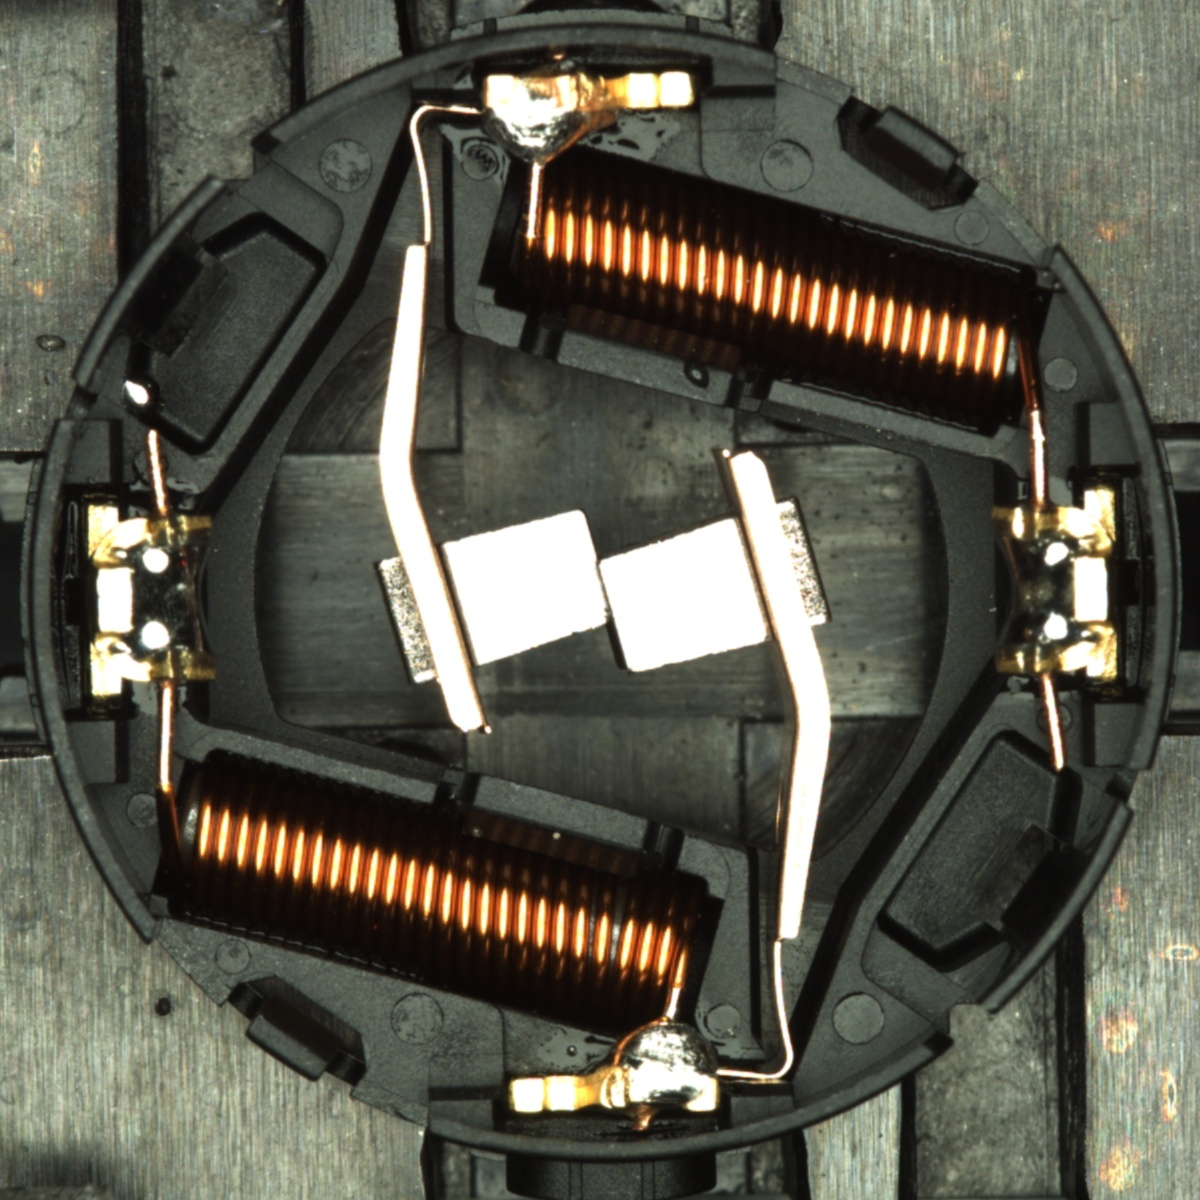1: (254, 30, 484, 255), (712, 927, 942, 1152)
2: (712, 30, 942, 255), (254, 927, 484, 1152)
3: (942, 703, 1171, 927), (25, 255, 254, 479)
4: (254, 255, 484, 479), (712, 703, 942, 927)
5: (484, 142, 712, 367), (484, 815, 712, 1040)
6: (712, 255, 942, 479), (254, 703, 484, 927)
7: (942, 255, 1171, 479), (25, 703, 254, 927)
cacbon: (395, 497, 802, 685)
chau_dien: (80, 497, 221, 700), (985, 487, 1124, 686)
hat_chi: (121, 376, 158, 416)
tay_choi: (480, 70, 699, 171), (508, 1016, 722, 1116)
thanh_de: (954, 786, 1141, 1031), (62, 163, 245, 402)
